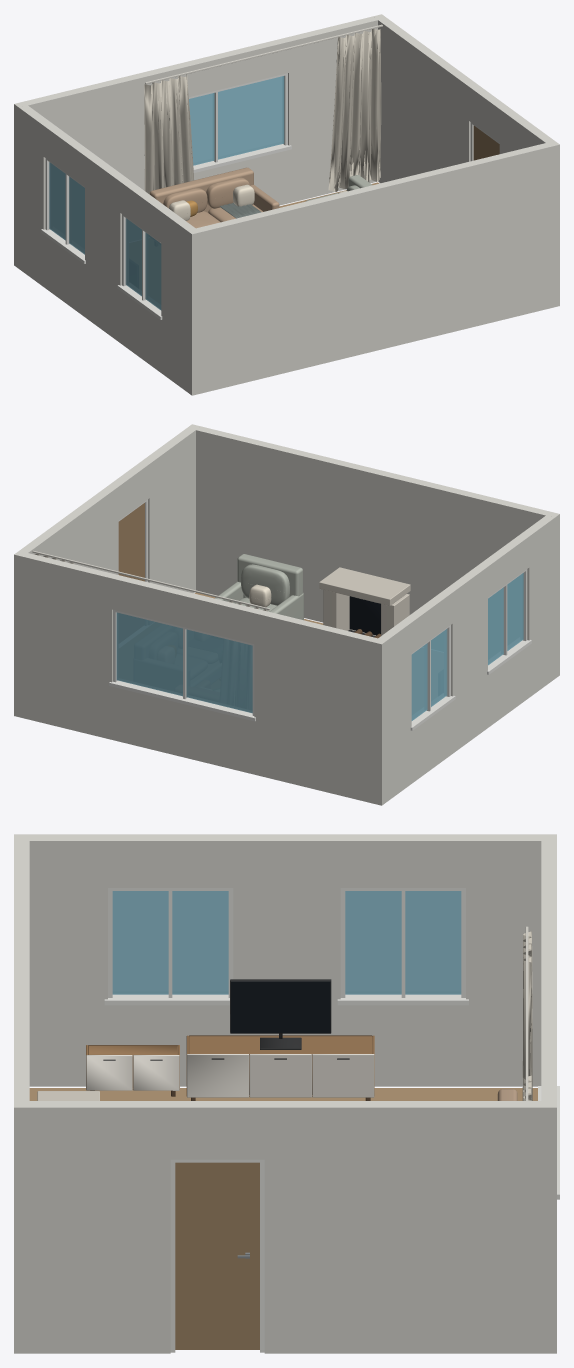
File: oursv11b.glb
The picture shows the model from 3 angles, top to bottom: view 1: azimuth 30°, elevation 25°; view 2: azimuth 150°, elevation 25°; view 3: azimuth 270°, elevation 25°; orthographic projection. The views are drawn at different scales.
Visible parts, largest first — view 1: wall|scenesmith_067__R00|0, wall|scenesmith_067__R00|2, wall|scenesmith_067__R00|1, wall|scenesmith_067__R00|3, Option V2 softly draped left linen panel, wall|scenesmith_067__R00|1 Window 0 | glazing, wall|scenesmith_067__R00|2 Window 0 | glazing, Back upholstered shell, wall|scenesmith_067__R00|2 Window 0 | jamb, wall|scenesmith_067__R00|1 Window 0 | jamb, V2 Accent scatter pillow, Option V2 continuous curtain track (+1 smaller); view 2: wall|scenesmith_067__R00|1, wall|scenesmith_067__R00|0, wall|scenesmith_067__R00|2, wall|scenesmith_067__R00|3, wall|scenesmith_067__R00|1 Window 0 | glazing, wall|scenesmith_067__R00|2 Window 0 | glazing, Fireplace jamb, Back upholstered shell.001, wall|scenesmith_067__R00|2 Window 0 | jamb, wall|scenesmith_067__R00|1 Window 0 | jamb, wall|scenesmith_067__R00|3 Door 0 | wood leaf, Display image (+1 smaller); view 3: wall|scenesmith_067__R00|3, wall|scenesmith_067__R00|2, wall|scenesmith_067__R00|2 Window 0 | glazing, wall|scenesmith_067__R00|3 Door 0 | wood leaf, Door panel, wall|scenesmith_067__R00|2 Window 0 | jamb, Display image, wall|scenesmith_067__R00|0, wall|scenesmith_067__R00|1, Bay divider, floor, wall|scenesmith_067__R00|3 Door 0 | jamb (+4 smaller).
Boxes of the visible parts, x1=… form: wall|scenesmith_067__R00|0: x1=187, y1=143, x2=559, y2=395; wall|scenesmith_067__R00|2: x1=14, y1=104, x2=200, y2=395; wall|scenesmith_067__R00|1: x1=14, y1=16, x2=377, y2=205; wall|scenesmith_067__R00|3: x1=373, y1=14, x2=559, y2=183; Option V2 softly draped left linen panel: x1=144, y1=27, x2=381, y2=194; wall|scenesmith_067__R00|1 Window 0 | glazing: x1=189, y1=76, x2=284, y2=165; wall|scenesmith_067__R00|2 Window 0 | glazing: x1=49, y1=162, x2=161, y2=310; Back upholstered shell: x1=149, y1=167, x2=279, y2=228; wall|scenesmith_067__R00|2 Window 0 | jamb: x1=41, y1=158, x2=162, y2=319; wall|scenesmith_067__R00|1 Window 0 | jamb: x1=189, y1=73, x2=291, y2=172; V2 Accent scatter pillow: x1=169, y1=184, x2=347, y2=220; Option V2 continuous curtain track: x1=145, y1=24, x2=382, y2=84; wall|scenesmith_067__R00|1: x1=23, y1=553, x2=386, y2=803; wall|scenesmith_067__R00|0: x1=196, y1=426, x2=559, y2=622; wall|scenesmith_067__R00|2: x1=373, y1=514, x2=559, y2=805; wall|scenesmith_067__R00|3: x1=14, y1=424, x2=200, y2=717; wall|scenesmith_067__R00|1 Window 0 | glazing: x1=116, y1=612, x2=252, y2=713; wall|scenesmith_067__R00|2 Window 0 | glazing: x1=411, y1=573, x2=523, y2=720; Fireplace jamb: x1=319, y1=567, x2=410, y2=635; Back upholstered shell.001: x1=214, y1=554, x2=303, y2=620; wall|scenesmith_067__R00|2 Window 0 | jamb: x1=410, y1=569, x2=531, y2=730; wall|scenesmith_067__R00|1 Window 0 | jamb: x1=109, y1=610, x2=255, y2=721; wall|scenesmith_067__R00|3 Door 0 | wood leaf: x1=118, y1=503, x2=144, y2=581; Display image: x1=349, y1=596, x2=380, y2=635; wall|scenesmith_067__R00|3: x1=14, y1=1101, x2=556, y2=1353; wall|scenesmith_067__R00|2: x1=29, y1=834, x2=541, y2=1086; wall|scenesmith_067__R00|2 Window 0 | glazing: x1=112, y1=891, x2=461, y2=994; wall|scenesmith_067__R00|3 Door 0 | wood leaf: x1=175, y1=1162, x2=259, y2=1349; Door panel: x1=86, y1=1054, x2=374, y2=1097; wall|scenesmith_067__R00|2 Window 0 | jamb: x1=104, y1=888, x2=468, y2=1005; Display image: x1=231, y1=981, x2=330, y2=1032; wall|scenesmith_067__R00|0: x1=14, y1=834, x2=29, y2=1100; wall|scenesmith_067__R00|1: x1=541, y1=834, x2=556, y2=1100; Bay divider: x1=86, y1=1035, x2=374, y2=1096; floor: x1=29, y1=1088, x2=537, y2=1100; wall|scenesmith_067__R00|3 Door 0 | jamb: x1=170, y1=1159, x2=264, y2=1352.
Bounding box in the file's own units: 6.23 × 2.61 × 5.23.
